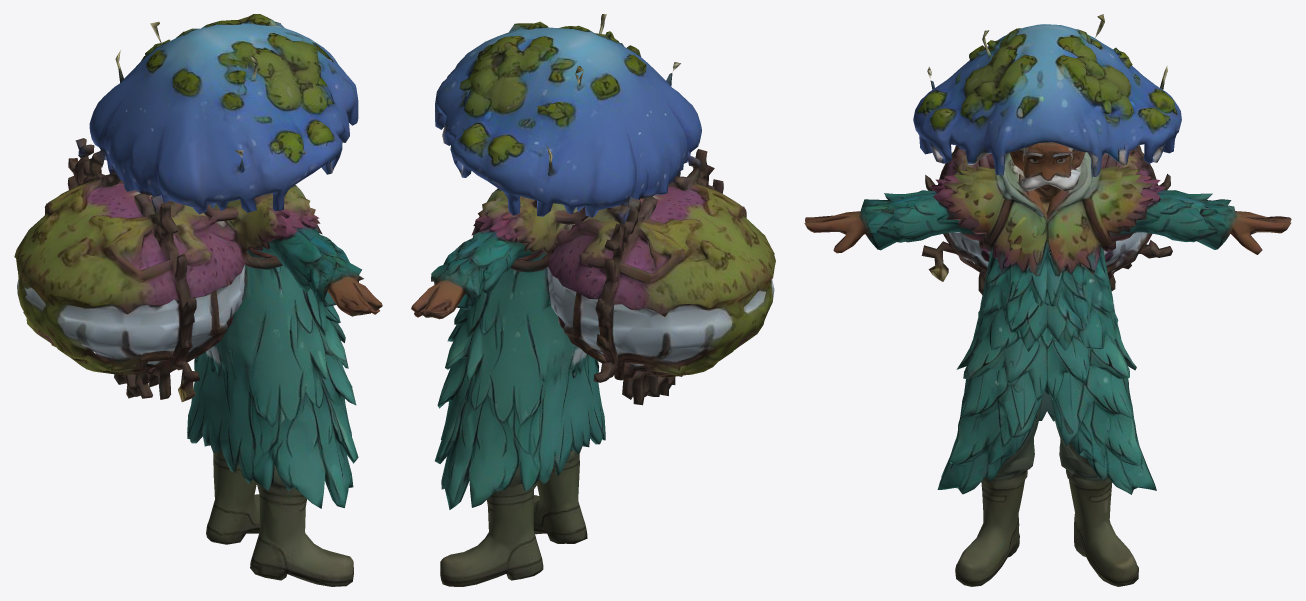
The model's file is n2_raincollector.46adeeae.glb.
3 views of the same model, side by side, from view 1: azimuth 30°, elevation 25°; view 2: azimuth 150°, elevation 25°; view 3: azimuth 270°, elevation 25° (orthographic). The views are drawn at different scales.
Visible parts, largest first — view 1: tripo_node_37b2e372-6549-487c-a465-11f8417a9c5b; view 2: tripo_node_37b2e372-6549-487c-a465-11f8417a9c5b; view 3: tripo_node_37b2e372-6549-487c-a465-11f8417a9c5b.
Boxes of the visible parts, left/top/right/bottom form: tripo_node_37b2e372-6549-487c-a465-11f8417a9c5b: left=14, top=14, right=382, bottom=586; tripo_node_37b2e372-6549-487c-a465-11f8417a9c5b: left=411, top=14, right=775, bottom=586; tripo_node_37b2e372-6549-487c-a465-11f8417a9c5b: left=804, top=14, right=1291, bottom=586.
Bounding box in the file's own units: 0.5885 × 1 × 0.8558.
Materials: 1 (1 with a texture image).
